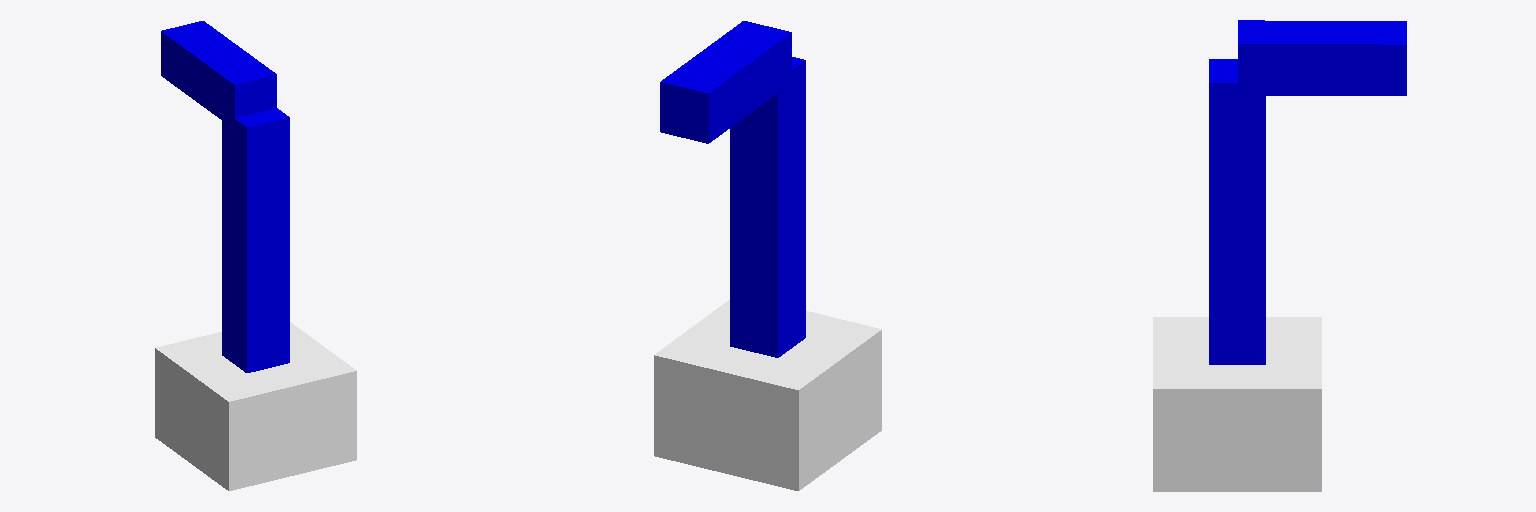
robot.urdf — l_figure:
<?xml version="1.0"?>
<robot name="l_figure">

<!-- Definición de Material -->
    <material name="blue">
        <color rgba="0.0 0.0 1.0 1.0"/>
    </material>
    
    <material name="white">
        <color rgba="1.0 1.0 1.0 1.0"/>
    </material>


<!-- Definicion de links del robot-->
    <link name="base_link">

        <inertial>
            <origin xyz="0.0 0.0 0.2"/>
            <mass value="100.0"/>
            <inertia ixx="1.0" ixy="0.0" ixz="0.0" iyy="1.0" iyz="0.0" izz="1.0"/>
        </inertial>

        <visual>
            <origin xyz="0.0 0.0 0.2"/>
            <geometry>
                <box size="0.6 0.6 0.4"/>
            </geometry>
            <material name="white"/>
        </visual>

        <collision>
            <origin xyz="0.0 0.0 0.2"/>
            <geometry>
                <box size="0.6 0.6 0.4"/>
            </geometry>
        </collision>

    </link>

    <link name="middle_link">
        <inertial>
            <origin rpy="0.0 0.0 0.0" xyz="0.0 0.0 0.7"/>
            <mass value="5.0"/>
            <inertia ixx="1.0" ixy="0.0" ixz="0.0" iyy="1.0" iyz="0.0" izz="1.0"/>
        </inertial>

        <visual>
            <origin rpy="0.0 0.0 0.0" xyz="0.0 0.0 0.7"/>
            <geometry>
                <box size="0.2 0.2 1.2"/>
            </geometry>
            <material name="blue"/>
        </visual>

        <collision>
            <origin rpy="0.0 0.0 0.0" xyz="0.0 0.0 0.7"/>
            <geometry>
                <box size="0.2 0.2 1.2"/>
            </geometry>
        </collision>
        
    </link>

    <link name="top_link">
        <inertial>
            <origin rpy="1.57 0.0 0.0" xyz="0.0 0.3 0.05"/>
            <mass value="1.0"/>
            <inertia ixx="1.0" ixy="0.0" ixz="0.0" iyy="1.0" iyz="0.0" izz="1.0"/>
        </inertial>
        
        <visual>
            <origin rpy="1.57 0.0 0.0" xyz="0.0 0.3 0.05"/>
            <geometry>
                <box size="0.2 0.2 0.6"/>
            </geometry>
            <material name="blue"/>
        </visual>

        <collision>
            <origin rpy="1.57 0.0 0.0" xyz="0.0 0.3 0.05"/>
            <geometry>
                <box size="0.2 0.2 0.6"/>
            </geometry>
        </collision>
        
    </link>

<!-- Definicion de joints del robot-->

    <joint name="base_to_middle_joint" type="fixed">
        <parent link="base_link"/>
        <child link="middle_link"/>

        <origin xyz="0.0 0.0 0.2"/>
    </joint>

    <joint name="middle_to_top_joint" type="revolute">
        <parent link="middle_link"/>
        <child link="top_link"/>
        <dynamics damping="0.0" friction="0.0001"/>

        <origin xyz="0.0 0.0 1.3"/>
        <axis xyz="0 0 1"/>
        
        <limit lower="-100.0" upper="100.0" effort="10.0" velocity="1.0"/>
    </joint>
    
</robot>

--- Render facts (derived) ---
Views: 3 orthographic renders of the robot side by side, from view 1: azimuth 30°, elevation 25°; view 2: azimuth 150°, elevation 25°; view 3: azimuth 270°, elevation 25°.
Model l_figure with 3 links and 2 joints (1 revolute, 1 fixed), rooted at base_link, posed all joints at 0.
Links seen in each view (by area): view 1: base_link, middle_link, top_link; view 2: base_link, middle_link, top_link; view 3: base_link, middle_link, top_link.
Boxes of the visible links, box(x1,y1,x2,y2) form: base_link: box(155, 322, 356, 490); middle_link: box(222, 108, 289, 372); top_link: box(161, 21, 276, 125); base_link: box(654, 300, 881, 490); middle_link: box(730, 57, 805, 357); top_link: box(660, 21, 791, 143); base_link: box(1153, 317, 1321, 491); middle_link: box(1209, 59, 1265, 364); top_link: box(1238, 20, 1406, 95).
Size in the robot's own frame: 0.6 by 0.9001 by 1.65 metres.
Geometry: primitives only (box / cylinder / sphere), no mesh files.